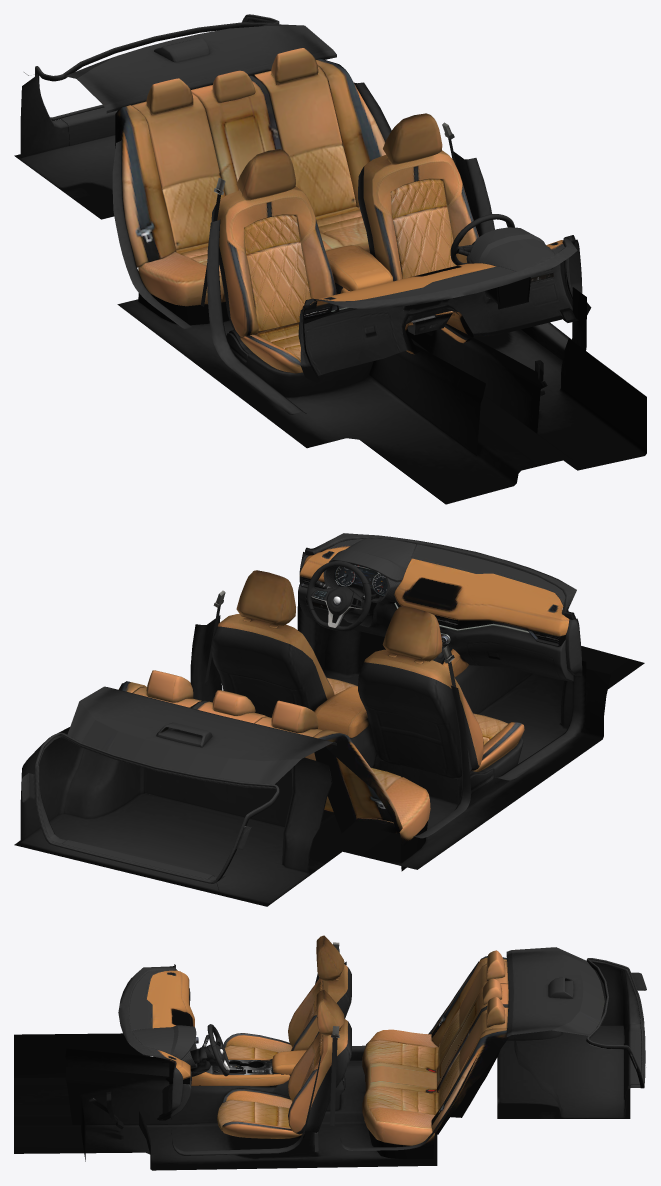
The model's file is bolsa_off.glb.
The picture shows the model from 3 angles, top to bottom: view 1: azimuth 30°, elevation 25°; view 2: azimuth 150°, elevation 25°; view 3: azimuth 270°, elevation 25°; orthographic projection. The views are drawn at different scales.
Parts seen in each view (by area): view 1: pasted__polySurface1241; view 2: pasted__polySurface1241; view 3: pasted__polySurface1241.
Boxes of the visible parts, x1,y1,x2,y2 form: pasted__polySurface1241: [14, 14, 646, 504]; pasted__polySurface1241: [14, 533, 644, 906]; pasted__polySurface1241: [14, 935, 646, 1170].
Size of the model in its own units: 1.77 by 1.16 by 4.24.
Materials: 2 (1 with a texture image).
